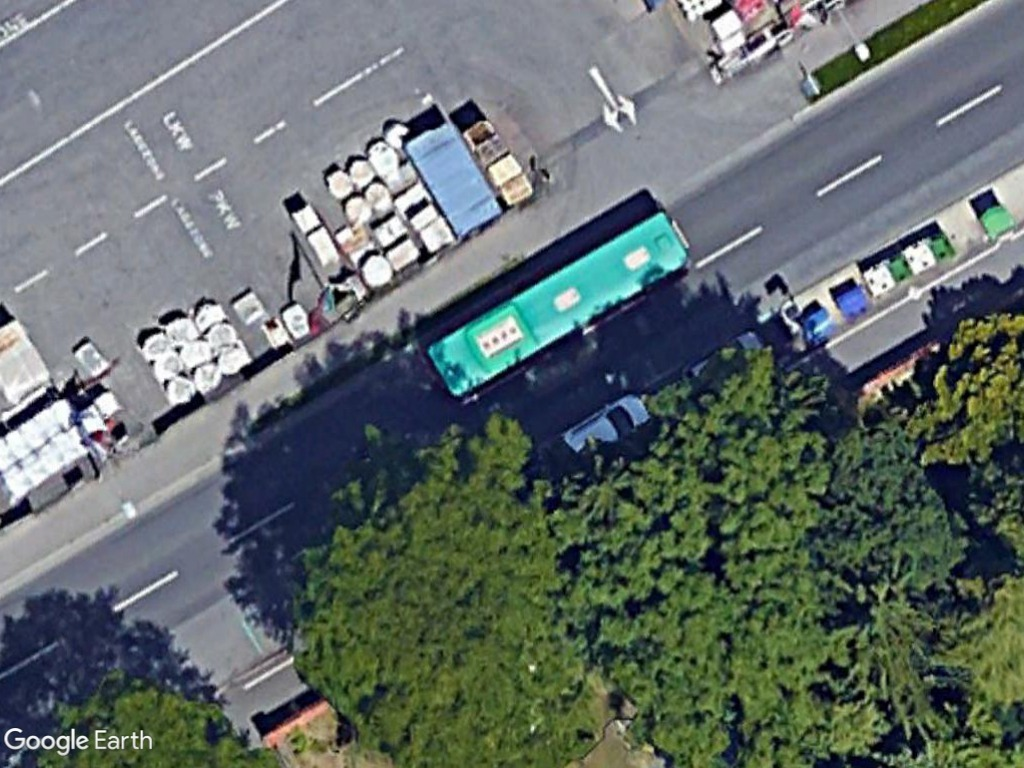bus: (417, 207, 695, 405)
